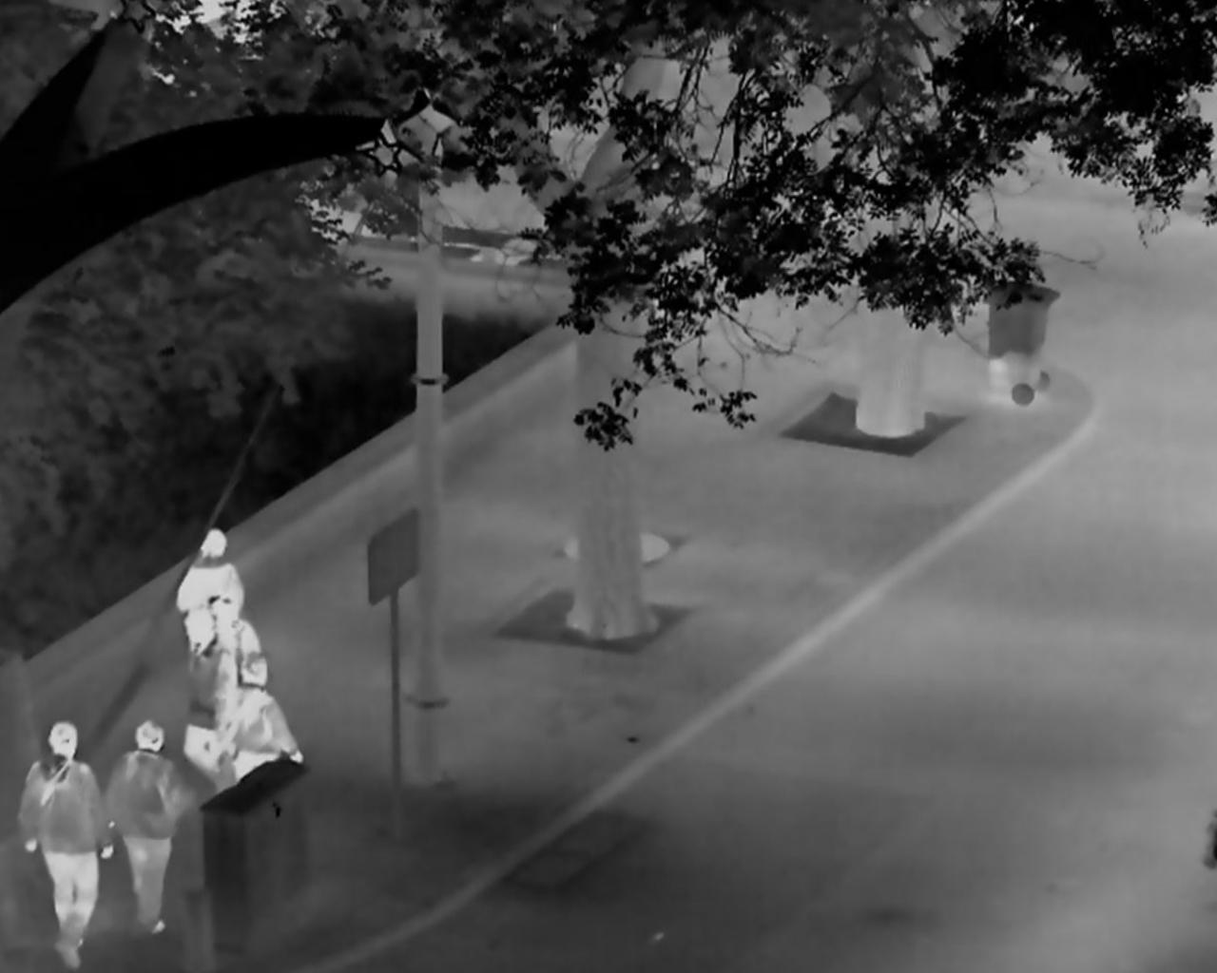person: (16, 720, 113, 969), (105, 720, 193, 937), (218, 650, 308, 780), (178, 604, 234, 789), (178, 528, 244, 623), (210, 597, 265, 693)
